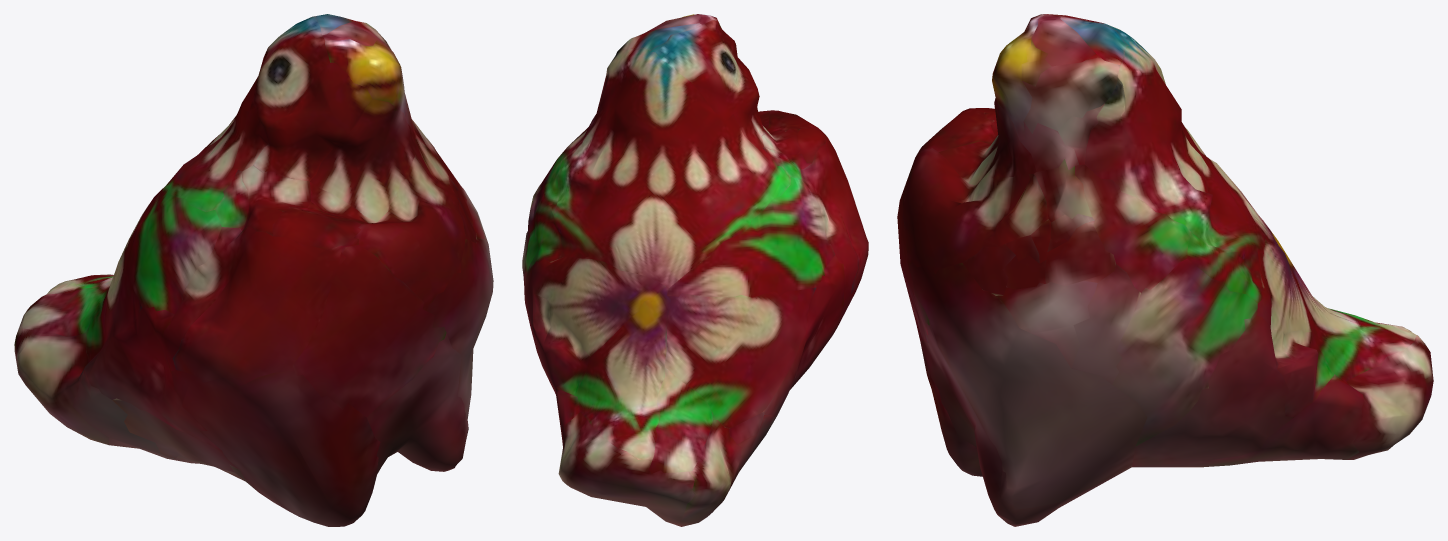
The model's file is hall.glb.
3 renders of one model, left to right at view 1: azimuth 30°, elevation 25°; view 2: azimuth 150°, elevation 25°; view 3: azimuth 270°, elevation 25°, orthographic. The views are drawn at different scales.
Bounding box in the file's own units: 0.4667 × 0.6432 × 0.6481.
Materials: 1 (1 with a texture image).
